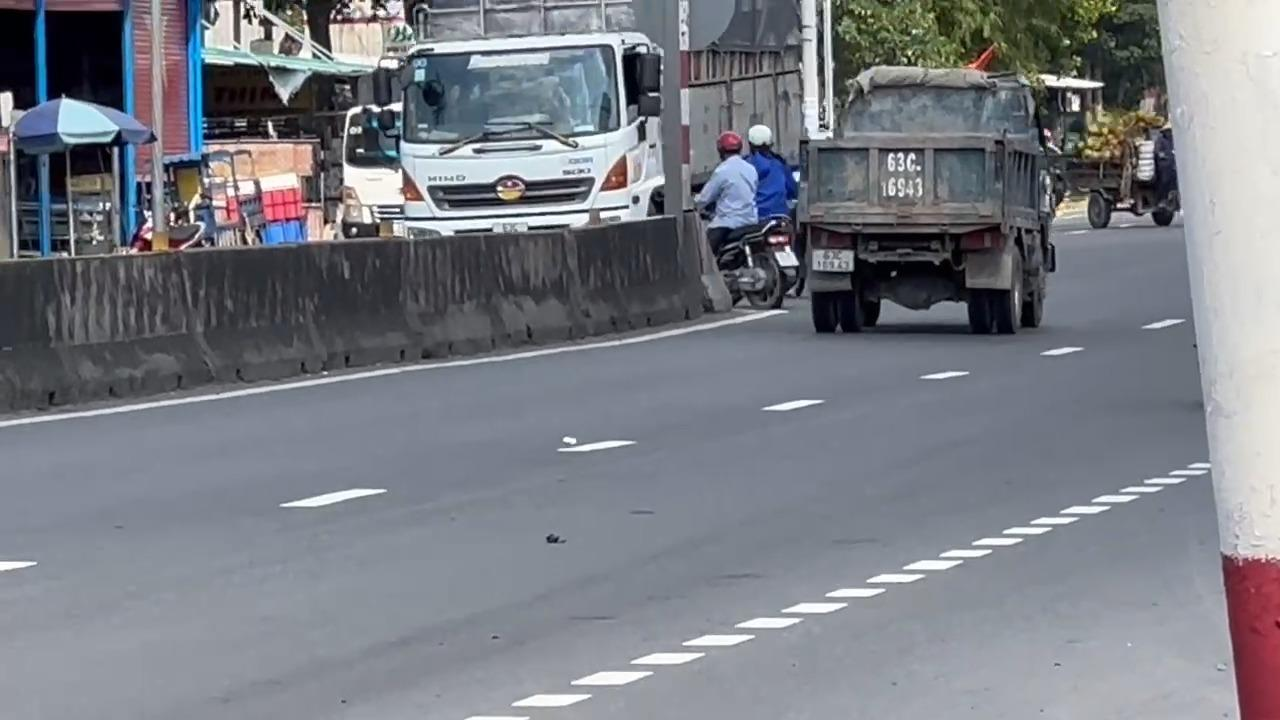bien_so: (810, 247, 855, 273)
